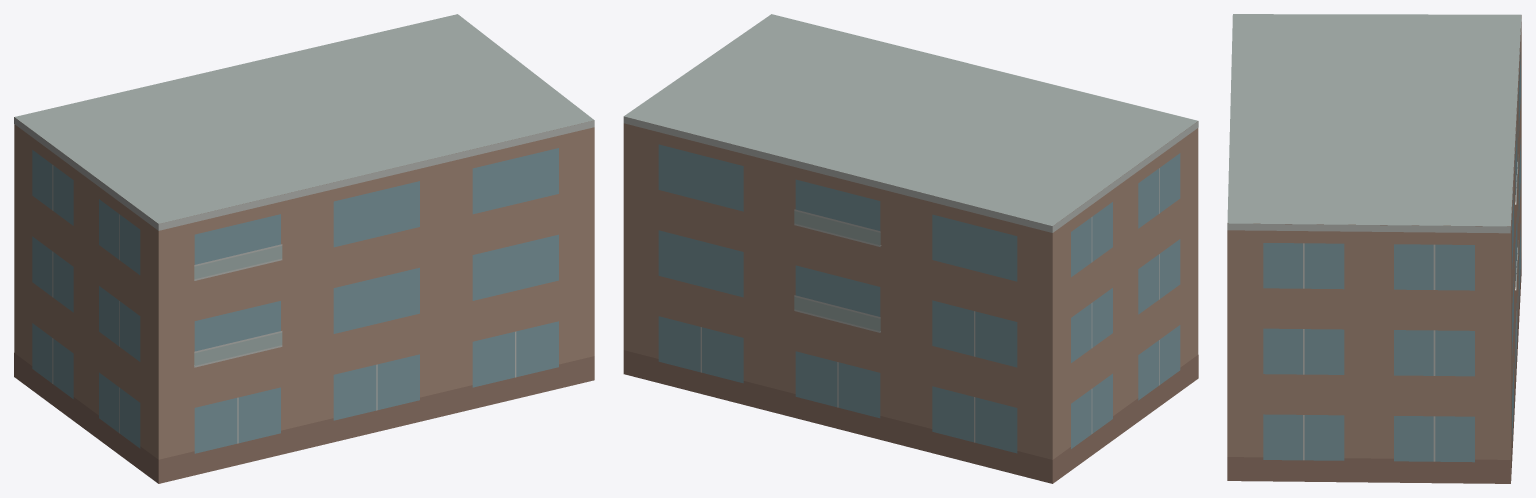
The model's file is survey-upis-32570414.glb.
3 renders of one model, left to right at view 1: azimuth 30°, elevation 25°; view 2: azimuth 150°, elevation 25°; view 3: azimuth 270°, elevation 25°, orthographic.
Visible parts, largest first — view 1: survey-upis-32570414.tmp; view 2: survey-upis-32570414.tmp; view 3: survey-upis-32570414.tmp.
Boxes of the visible parts, bbox=[...] form: survey-upis-32570414.tmp: bbox=[14, 14, 594, 483]; survey-upis-32570414.tmp: bbox=[623, 14, 1198, 483]; survey-upis-32570414.tmp: bbox=[1227, 14, 1521, 483].
Bounding box in the file's own units: 16.2 × 9.15 × 9.48.
